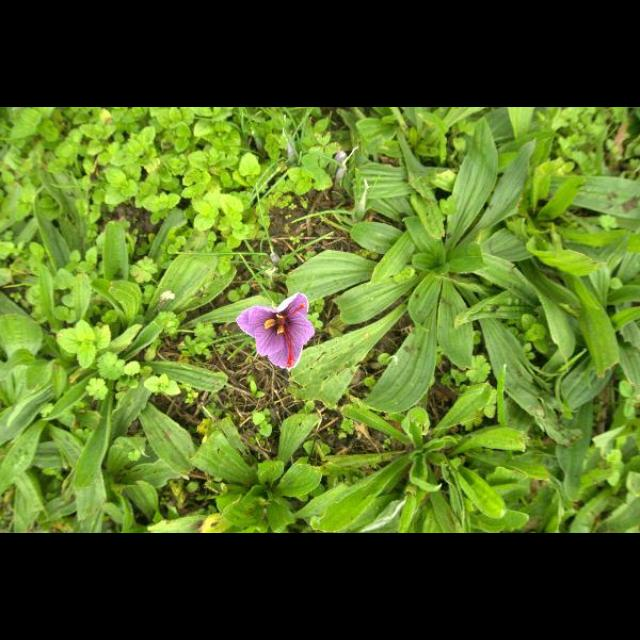flower: (236, 293, 316, 371)
